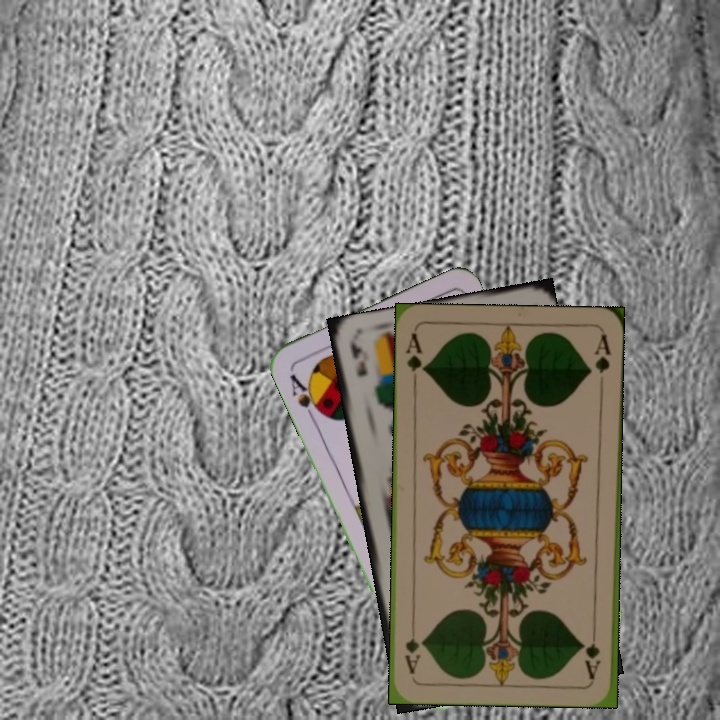EK: (345, 339, 370, 380)
GA: (402, 329, 429, 388), (582, 622, 603, 681)
SA: (285, 370, 326, 423)
